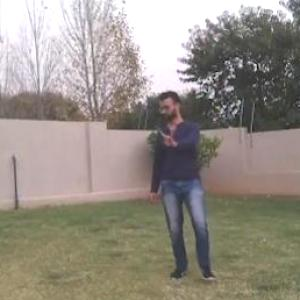takeoff-hand: (153, 121, 184, 152)
